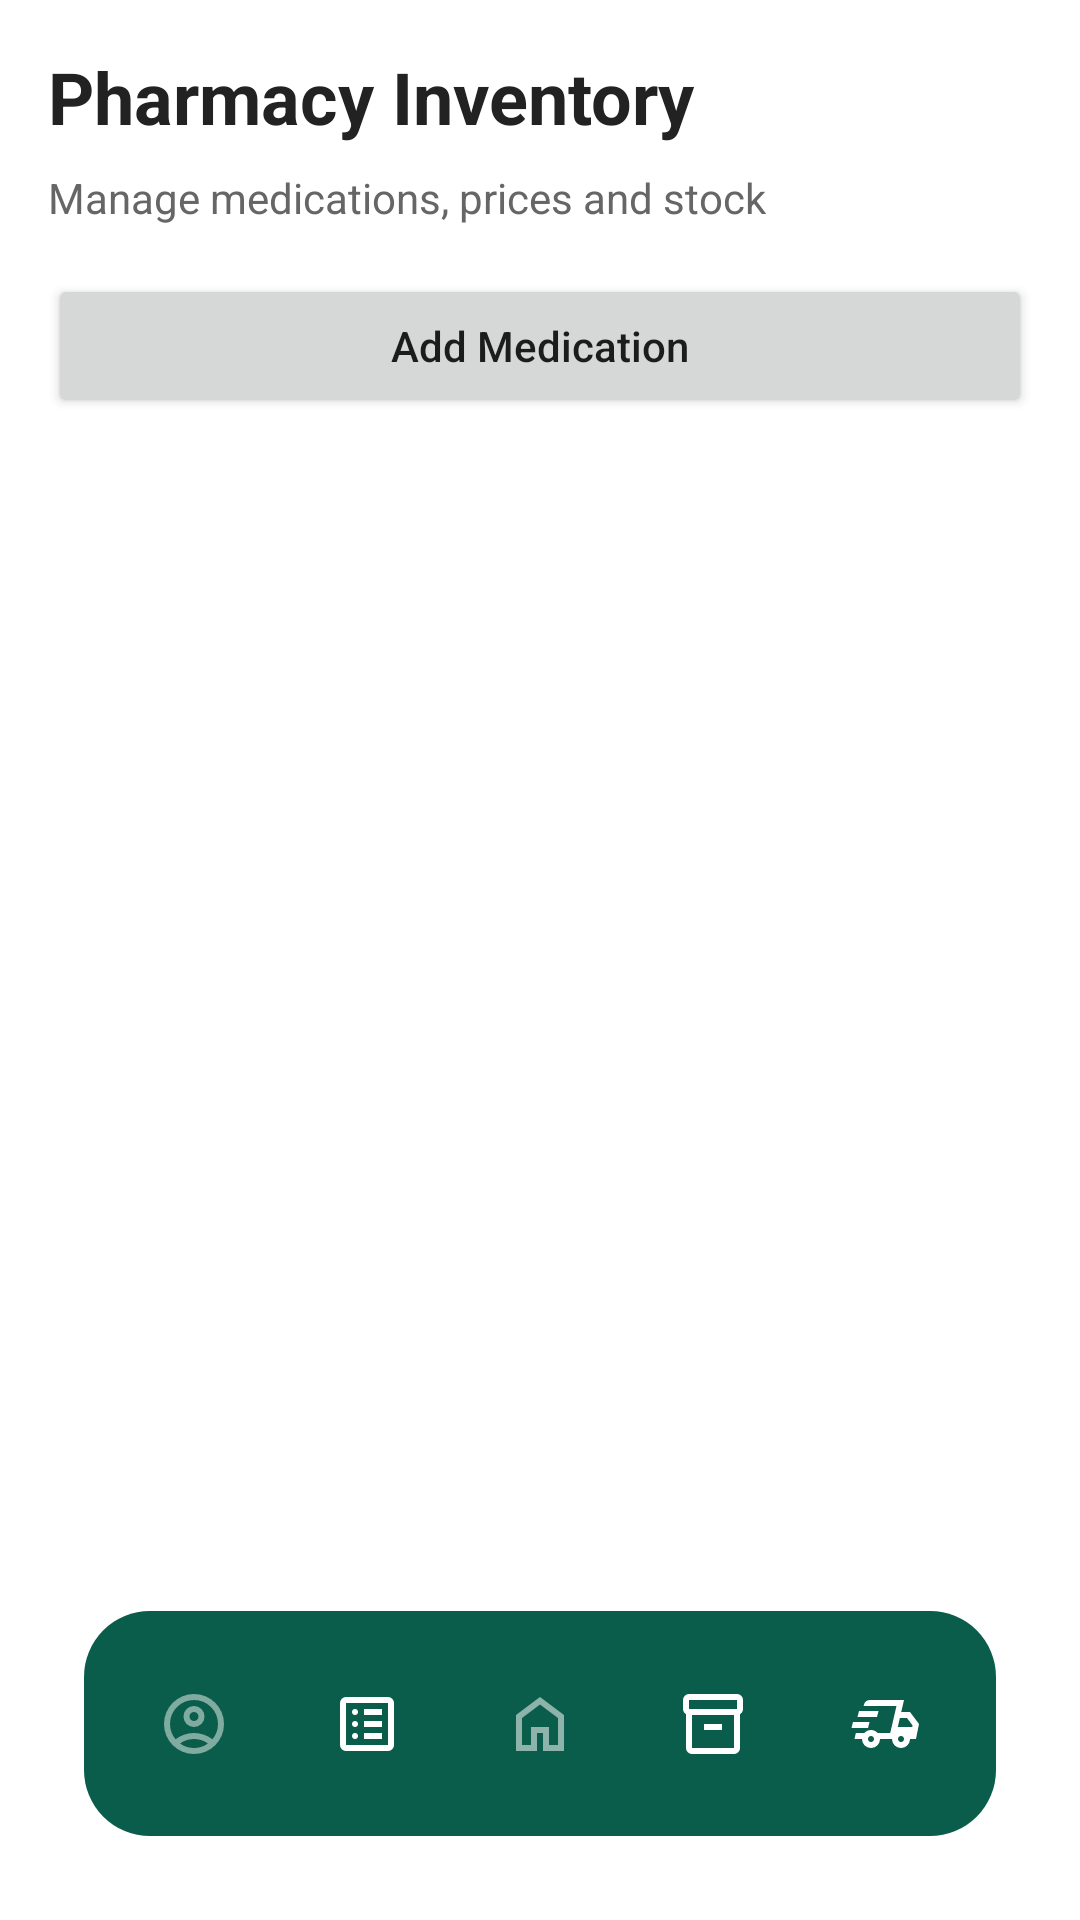

Screen size 1080×1920. Icon name, then its box in pixels as (x1, y1, x2, y2):
Deliveries: (851, 1700, 919, 1748)
Home: (516, 1697, 564, 1751)
Inventory: (683, 1694, 743, 1754)
Orders: (340, 1697, 394, 1751)
Profile: (164, 1694, 224, 1754)
